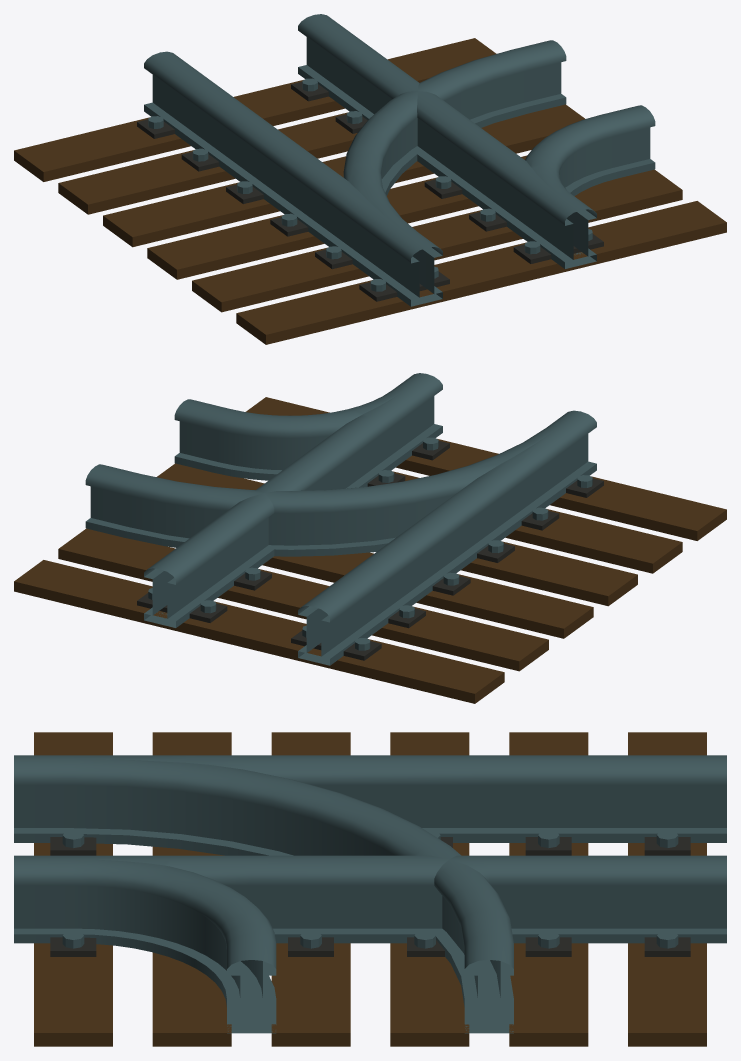
File: CA_056_058_060_061_rail_branch.glb
3 renders of one model, top to bottom at view 1: azimuth 30°, elevation 25°; view 2: azimuth 150°, elevation 25°; view 3: azimuth 270°, elevation 25°, orthographic. The views are drawn at different scales.
Parts seen in each view (by area): view 1: wooden_planks, branching_rails; view 2: branching_rails, wooden_planks; view 3: branching_rails, wooden_planks.
Part boxes in pixels (x1,y1,x2,y2): wooden_planks: (14, 38, 726, 344); branching_rails: (144, 14, 655, 306); branching_rails: (85, 373, 596, 665); wooden_planks: (14, 397, 726, 703); branching_rails: (14, 755, 726, 1033); wooden_planks: (34, 732, 706, 1046).
Bounding box in the file's own units: 2.25 × 0.3031 × 2.25.
